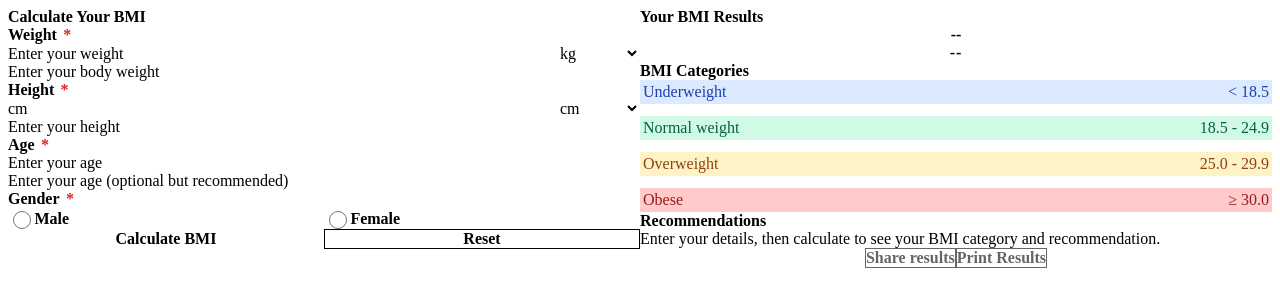
Test: BmiCalculator › computes the source metric example end-to-end
The width and height of the screenshot is (1280, 303).
Type "70" into the number field labelled "weight".
click(282, 54); type("70")  # box [8,44,556,63]
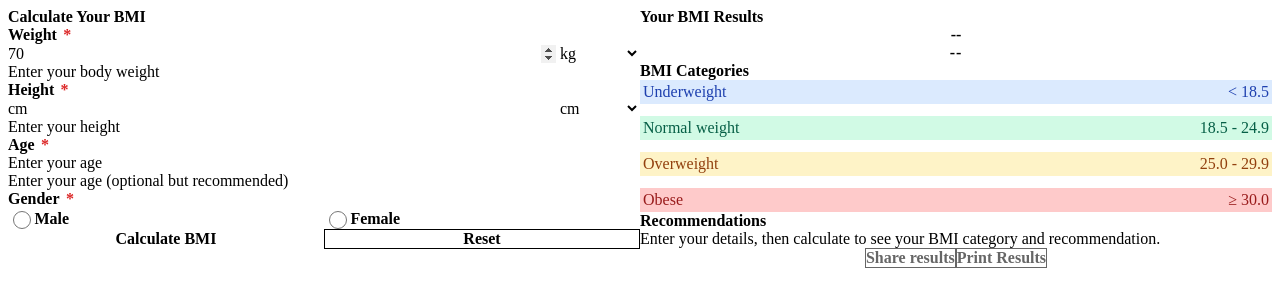
Type "175" into the number field named "Height".
click(282, 108); type("175")  # box [8,99,556,118]
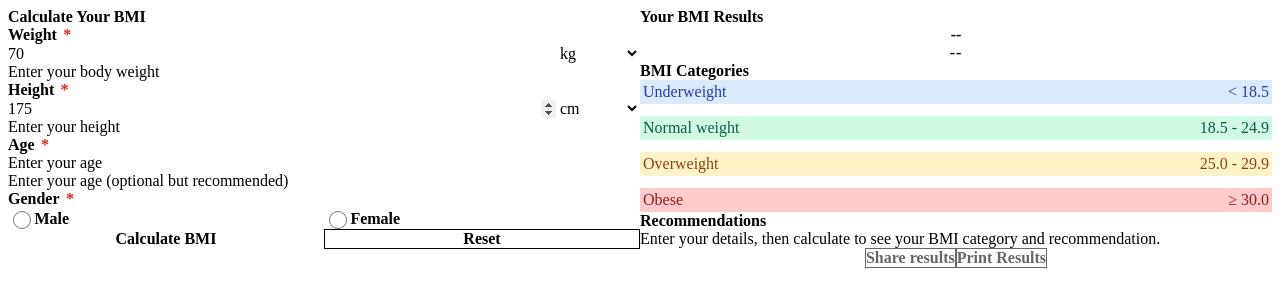
Type "30" into the number field labelled "Age".
click(324, 163); type("30")  # box [8,154,640,172]
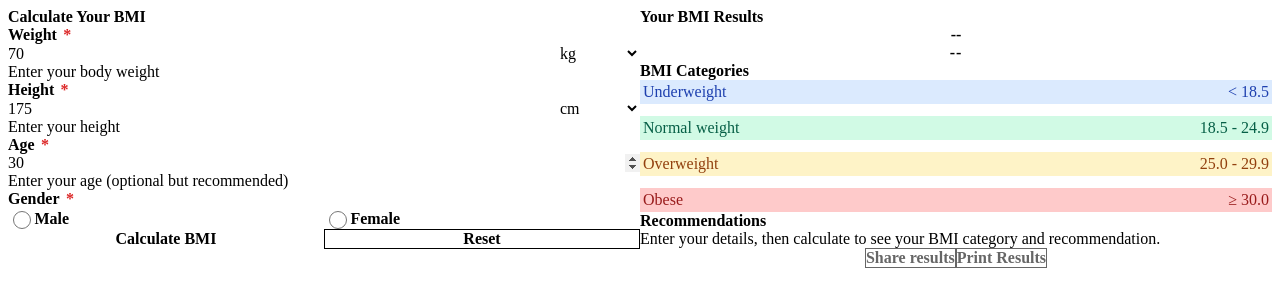
Click the radio button labelled "Male".
click(22, 220)  # box [13,211,31,229]
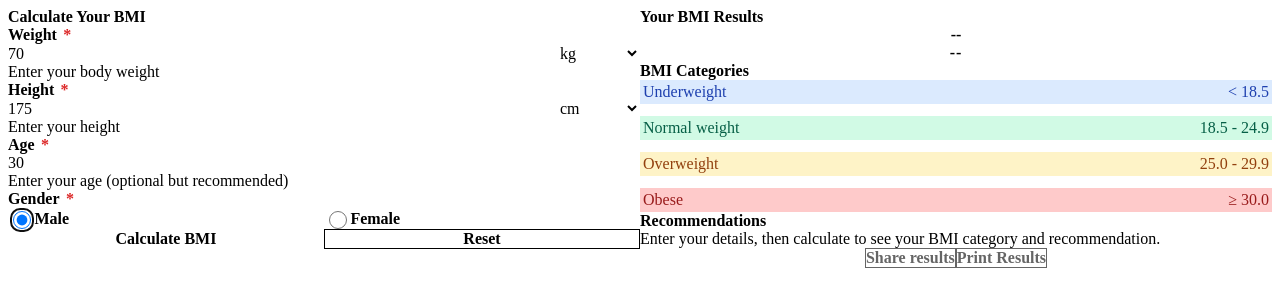
Click the button "Calculate BMI".
click(166, 239)  # box [8,229,324,249]
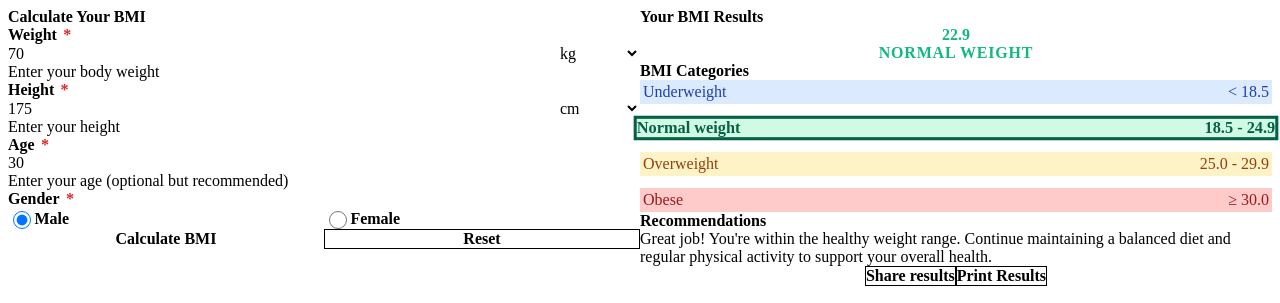
Expected: the element "Your BMI Results" shows "Normal weight", [879,44,1033,61]
Now the element "Your BMI Results" shows "22.9", box [942,26,970,43]
Now the element "Your BMI Results" shows "healthy weight range", box [640,230,1231,265]
